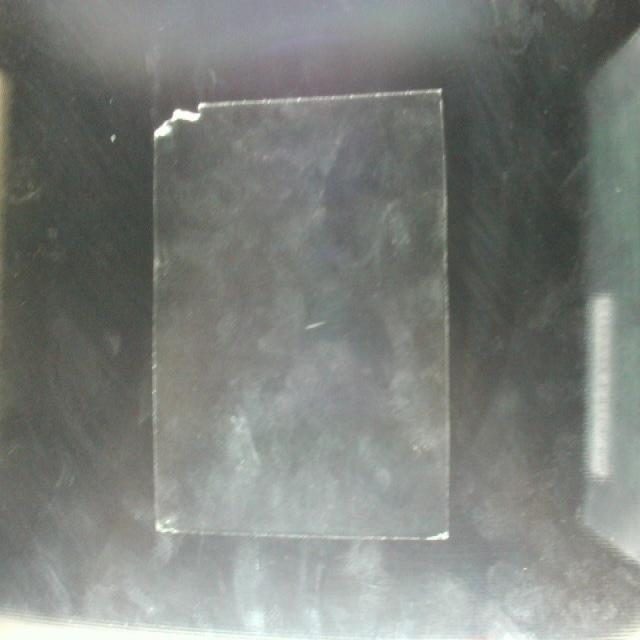edge_chip: (150, 98, 210, 154), (423, 505, 455, 553), (156, 502, 182, 553)
scratch: (298, 305, 328, 342)
